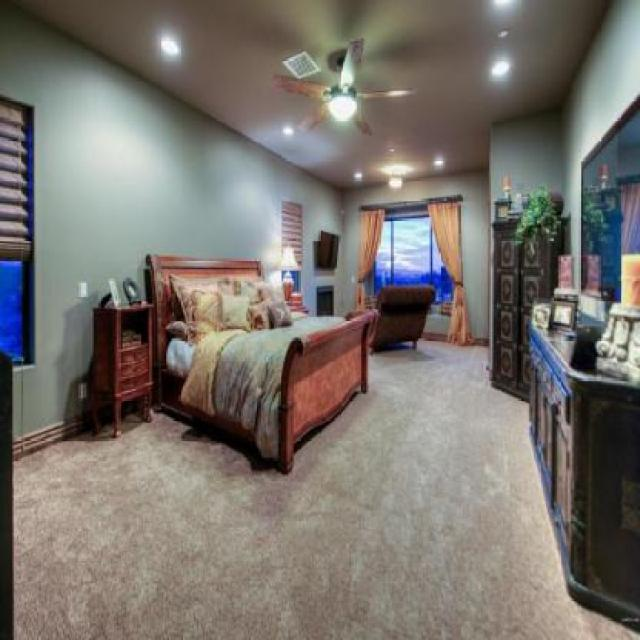floor: (11, 338, 640, 640)
